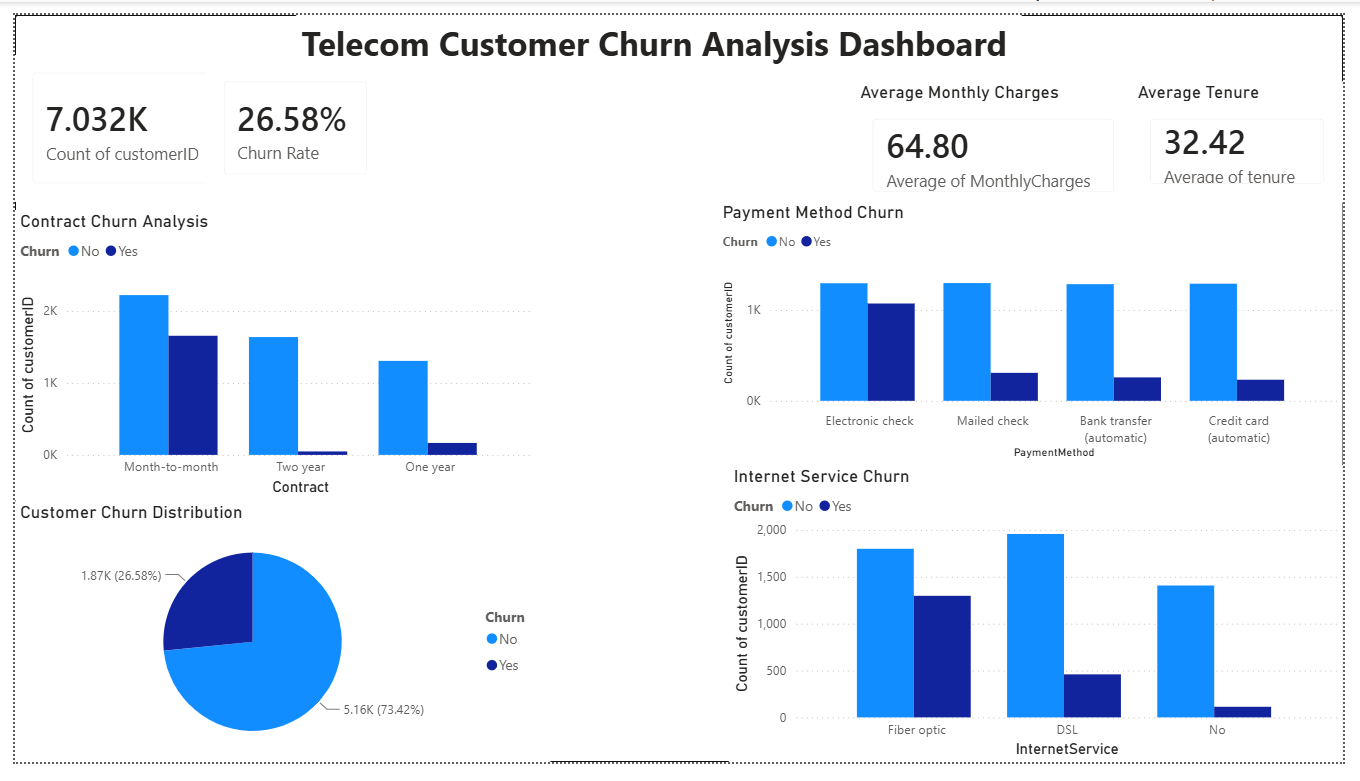

The dashboard page shown, as its layout file describes it:
{"tool":"powerbi","page":{"name":"Churn Analysis Dashboard","canvas":[1280,720],"ordinal":0},"visuals":[{"type":"cardVisual","fields":{"Data":["CountNonNull(cleaned_telco_churn.customerID)"]},"box":[0,38.4,211.3,141.7],"z":0},{"type":"cardVisual","fields":{"Data":["cleaned_telco_churn.Churn Rate"]},"box":[184.9,46.8,172.9,124.9],"z":1000},{"type":"cardVisual","title":"Average Monthly Charges","fields":{"Data":["Avg(cleaned_telco_churn.MonthlyCharges)"]},"box":[809.3,63.6,267.8,124.9],"z":2000},{"type":"cardVisual","title":"Average  Tenure","fields":{"Data":["Avg(cleaned_telco_churn.tenure)"]},"box":[1077.1,63.6,202.9,116.5],"z":3000},{"type":"clusteredColumnChart","title":"Contract Churn Analysis","fields":{"Category":["cleaned_telco_churn.Contract"],"Y":["CountNonNull(cleaned_telco_churn.customerID)"],"Series":["cleaned_telco_churn.Churn"]},"box":[0,188.5,505.5,279.8],"z":4000},{"type":"clusteredColumnChart","title":"Payment Method Churn","fields":{"Category":["cleaned_telco_churn.PaymentMethod"],"Y":["CountNonNull(cleaned_telco_churn.customerID)"],"Series":["cleaned_telco_churn.Churn"]},"box":[677.2,180.1,602.8,253.4],"z":5000},{"type":"clusteredColumnChart","title":"Internet Service Churn","fields":{"Category":["cleaned_telco_churn.InternetService"],"Y":["CountNonNull(cleaned_telco_churn.customerID)"],"Series":["cleaned_telco_churn.Churn"]},"box":[688,433.5,592,287],"z":6000},{"type":"pieChart","title":"Customer Churn Distribution","fields":{"Category":["cleaned_telco_churn.Churn"],"Y":["CountNonNull(cleaned_telco_churn.customerID)"]},"box":[0,468.3,516.3,252.2],"z":7000},{"type":"textbox","box":[271.4,0,698.8,62.4],"z":8000}]}

Visuals, with their boxes in screenshot pixels (x1, y1, x2, y2), scaled from the page's 1280x720 canvas onto the 1360x781 screenshot:
cardVisual - CountNonNull(cleaned_telco_churn.customerID): bbox=(0, 42, 225, 195)
cardVisual - cleaned_telco_churn.Churn Rate: bbox=(196, 51, 380, 186)
"Average Monthly Charges" cardVisual: bbox=(860, 69, 1144, 204)
"Average  Tenure" cardVisual: bbox=(1144, 69, 1359, 195)
"Contract Churn Analysis" clusteredColumnChart: bbox=(0, 204, 537, 508)
"Payment Method Churn" clusteredColumnChart: bbox=(720, 195, 1359, 470)
"Internet Service Churn" clusteredColumnChart: bbox=(731, 470, 1359, 780)
"Customer Churn Distribution" pieChart: bbox=(0, 508, 549, 780)
textbox: bbox=(288, 0, 1031, 68)
